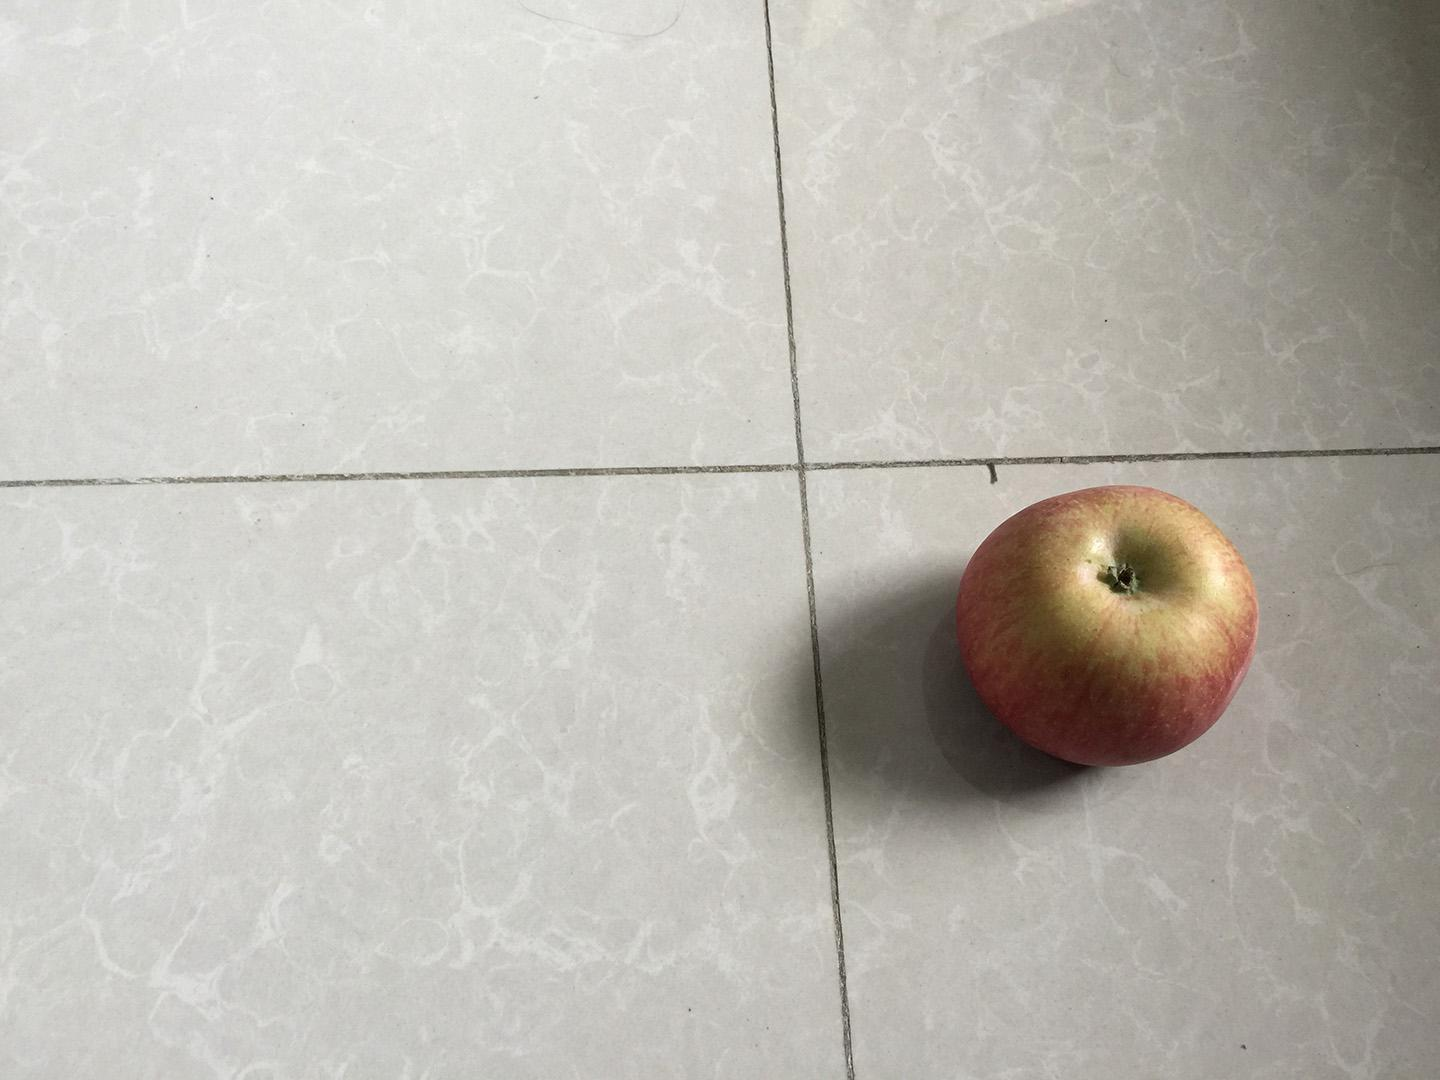apple: (950, 479, 1268, 774)
